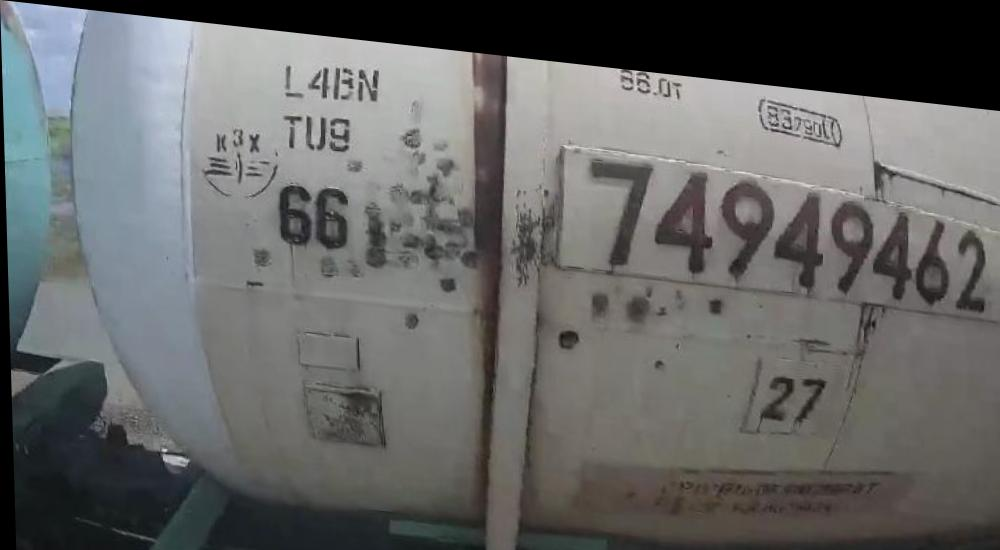Wagon-number: (581, 131, 989, 296)
